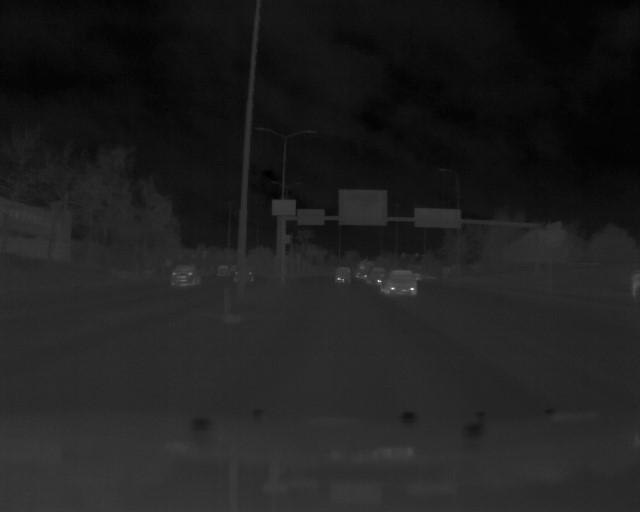car: (378, 268, 418, 298), (166, 263, 202, 285), (330, 263, 353, 287)
